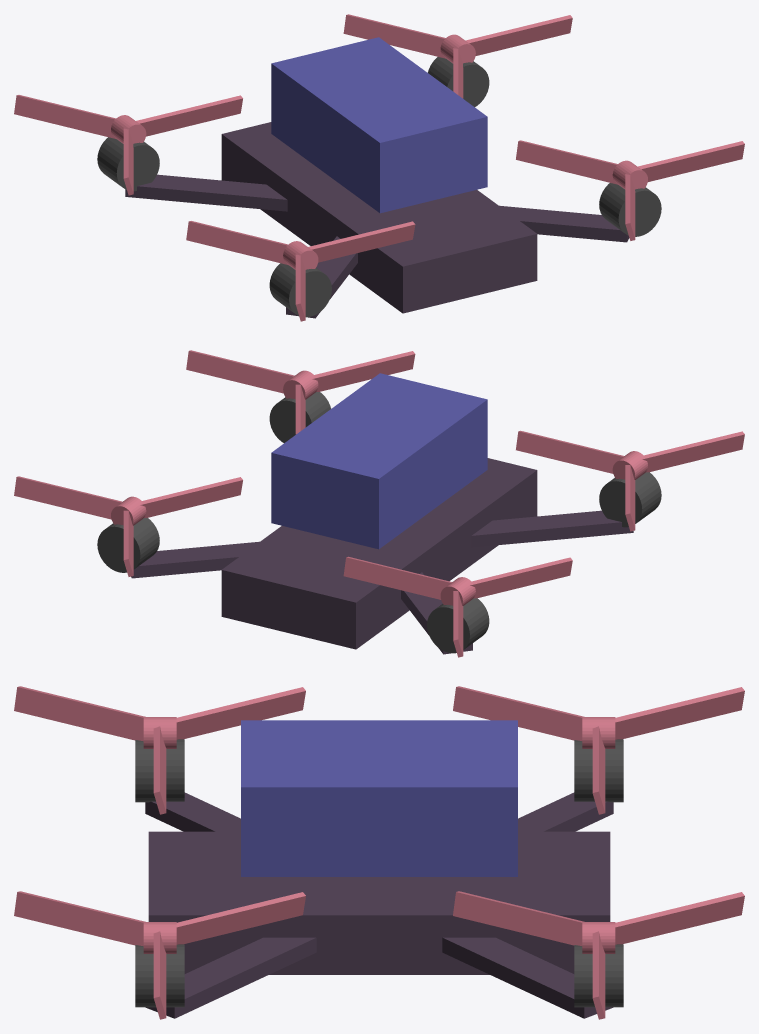
Rendered from Source X.glb.
The picture shows the model from 3 angles, top to bottom: view 1: azimuth 30°, elevation 25°; view 2: azimuth 150°, elevation 25°; view 3: azimuth 270°, elevation 25°; orthographic projection. The views are drawn at different scales.
Parts seen in each view (by area): view 1: battery, frame_body, prop_2, prop_3, prop_0, prop_1, arm_3, arm_0, motor_0, motor_2, motor_3, motor_1 (+1 smaller); view 2: battery, frame_body, prop_3, prop_2, prop_1, prop_0, arm_2, arm_1, motor_1, motor_3, motor_2, motor_0 (+1 smaller); view 3: battery, frame_body, prop_1, prop_0, prop_2, prop_3, arm_1, arm_0, arm_2, arm_3, motor_0, motor_1 (+2 smaller).
Boxes of the visible parts, <box> form: battery: <box>271,37,487,213</box>; frame_body: <box>221,122,537,313</box>; prop_2: <box>186,221,415,321</box>; prop_3: <box>14,95,242,195</box>; prop_0: <box>516,140,744,240</box>; prop_1: <box>343,14,572,98</box>; arm_3: <box>125,174,287,211</box>; arm_0: <box>499,205,629,242</box>; motor_0: <box>599,183,661,236</box>; motor_2: <box>269,263,331,317</box>; motor_3: <box>97,137,159,191</box>; motor_1: <box>428,57,489,106</box>; battery: <box>271,373,487,549</box>; frame_body: <box>221,458,537,649</box>; prop_3: <box>343,556,572,657</box>; prop_2: <box>516,430,744,531</box>; prop_1: <box>14,476,242,576</box>; prop_0: <box>186,350,415,434</box>; arm_2: <box>471,510,633,547</box>; arm_1: <box>131,541,259,578</box>; motor_1: <box>97,518,159,572</box>; motor_3: <box>427,598,489,653</box>; motor_2: <box>599,472,661,527</box>; motor_0: <box>269,392,330,442</box>; battery: <box>241,720,517,876</box>; frame_body: <box>148,831,610,974</box>; prop_1: <box>453,891,744,1019</box>; prop_0: <box>14,891,305,1019</box>; prop_2: <box>14,686,305,814</box>; prop_3: <box>453,686,744,814</box>; arm_1: <box>442,937,613,1018</box>; arm_0: <box>145,937,316,1018</box>; arm_2: <box>145,792,240,831</box>; arm_3: <box>518,792,613,831</box>; motor_0: <box>135,944,184,1007</box>; motor_1: <box>574,944,623,1007</box>.
Size of the model in its own units: 0.2237 by 0.06 by 0.2215.
